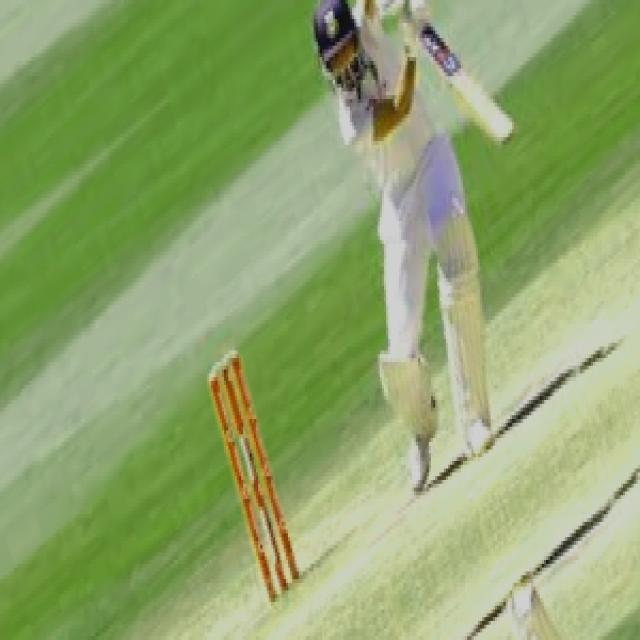toe: (475, 96, 519, 157)
